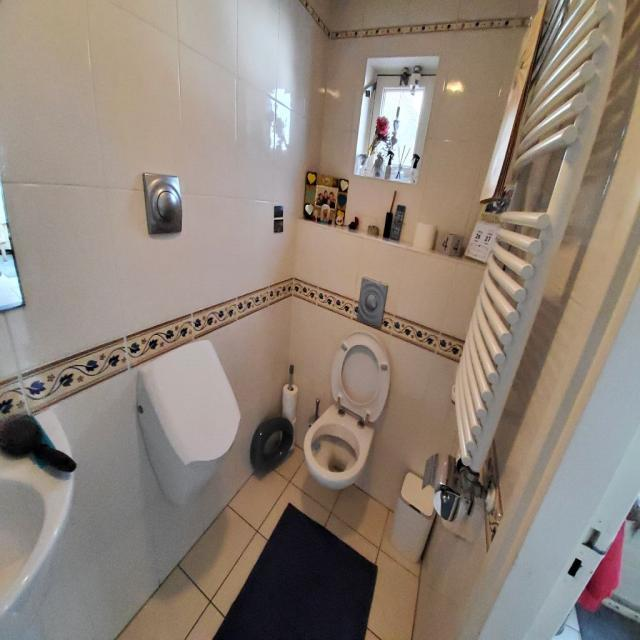designradiator: (452, 0, 628, 515)
toilet: (136, 172, 242, 505), (304, 278, 392, 492)
wastafel: (0, 406, 74, 639)
